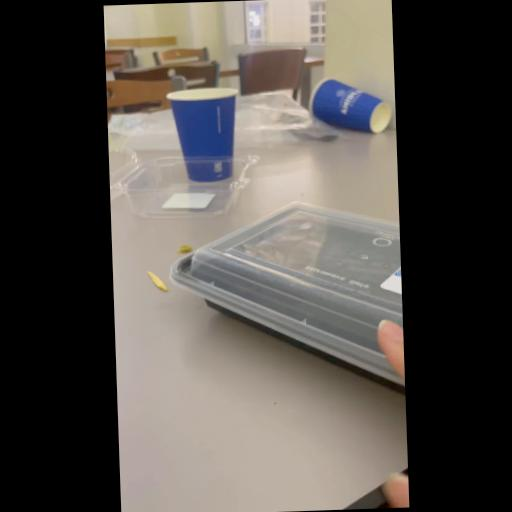rigid_plastic_container: (168, 202, 404, 406)
